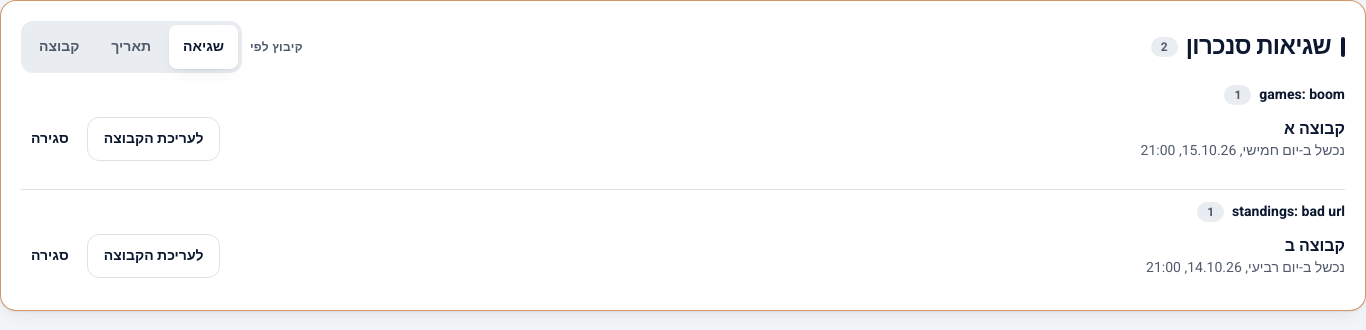
Test case: SyncFailures › dismiss deletes the note and removes the row
Click the button with aria-label "סגירת ההתראה של קבוצה א". click: click(50, 139)
box: [21,117,79,161]
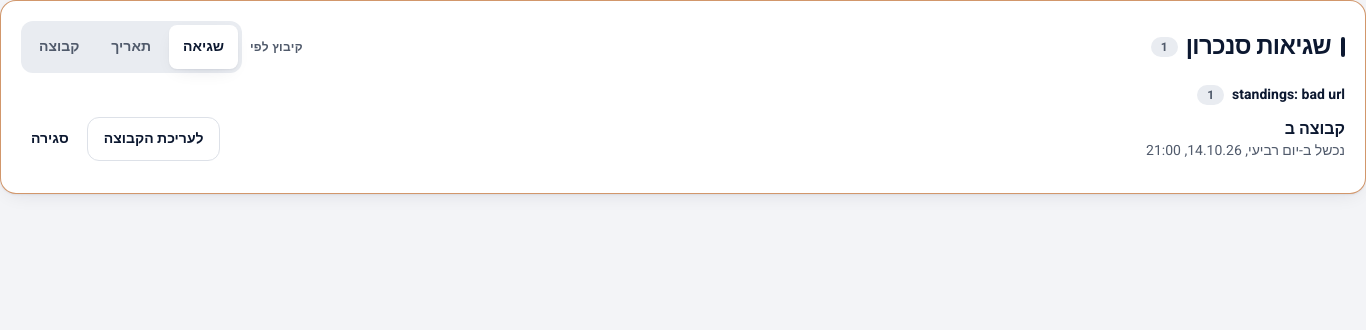
Expected: the text "קבוצה ב" is shown, [1285,117,1345,141]
Expected: the text "קבוצה א" is gone
